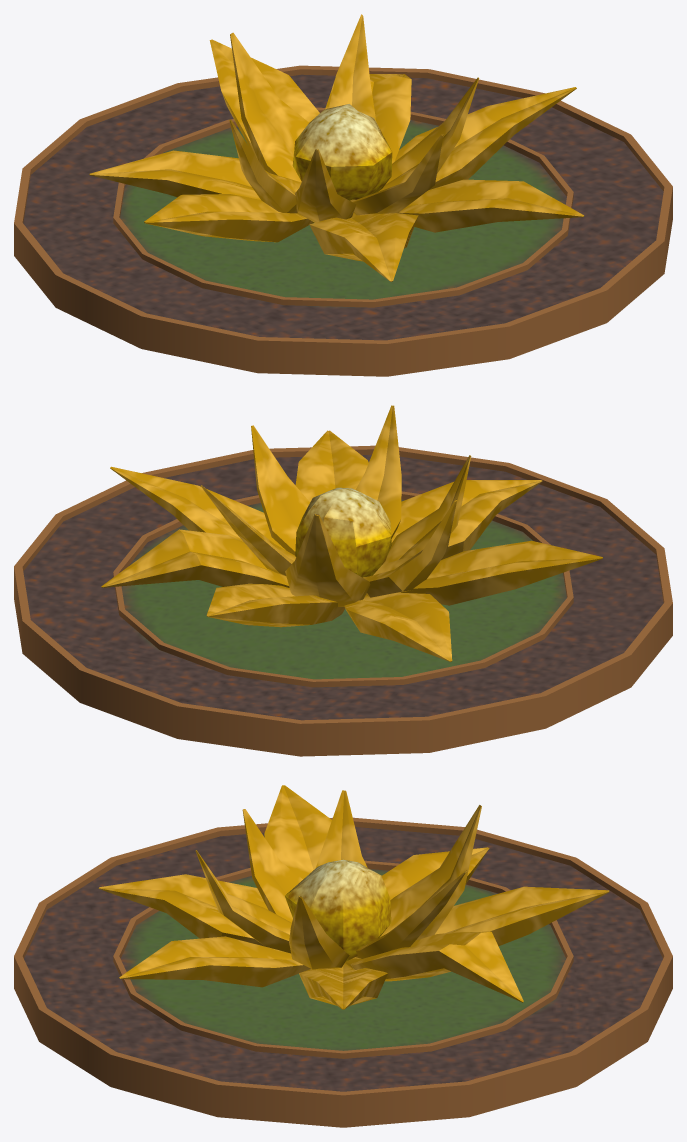
Rendered from GoldenFlower.fbx.
The picture shows the model from 3 angles, top to bottom: view 1: azimuth 30°, elevation 25°; view 2: azimuth 150°, elevation 25°; view 3: azimuth 270°, elevation 25°; orthographic projection.
Visible parts, largest first — view 1: Cube; view 2: Cube; view 3: Cube.
Boxes of the visible parts, left/top/right/bottom form: Cube: left=14, top=14, right=672, bottom=376; Cube: left=14, top=405, right=672, bottom=756; Cube: left=14, top=785, right=672, bottom=1127.
Size of the model in its own units: 0.9721 by 0.2649 by 0.9721.
